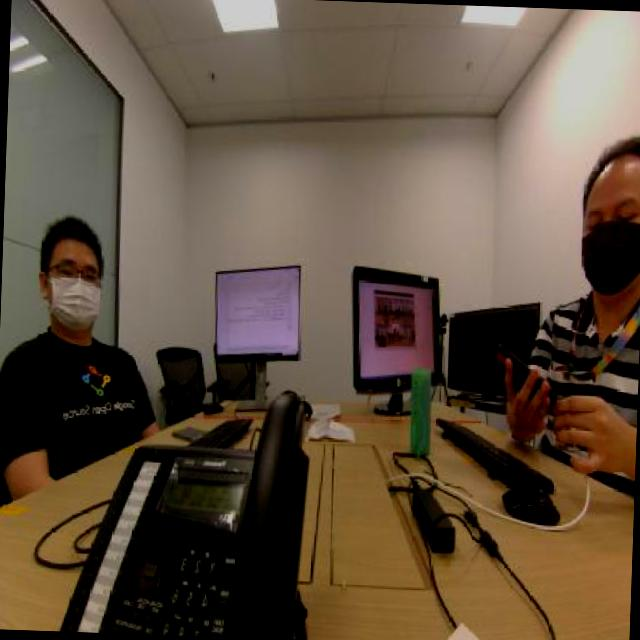Person: (3, 175, 146, 440), (529, 110, 640, 431)
